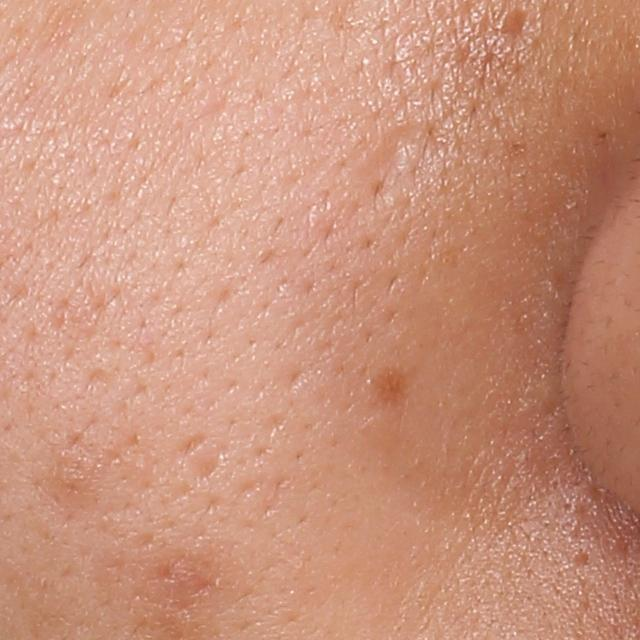atrophic_scar: (361, 118, 426, 219), (494, 3, 535, 43)
